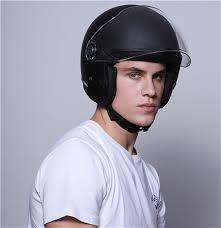helmet: (80, 4, 192, 125)
